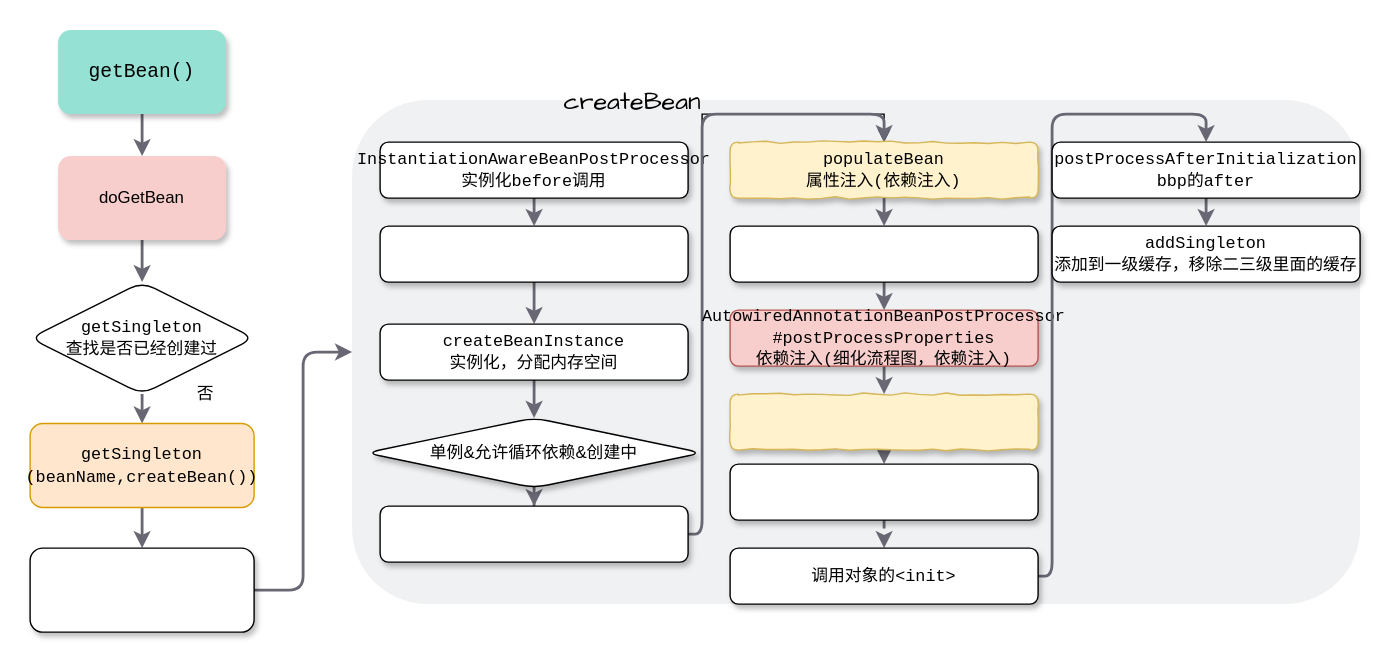
The diagram is 1393 pixels wide and 666 high, and some of its shapes have lost their labels. The centre of each missing label's shape, as x and y in pixels:
beforeSingletonCreation 设置状态为创建中: the point at 142,591
doCreateBean: the point at 534,255
initializeBean: the point at 884,423
InstantiationAwareBeanPostProcessor 实例化after调用: the point at 884,255
postProcessBeforeInitialization bbp的before: the point at 884,493
放置到三级缓存: the point at 534,535
